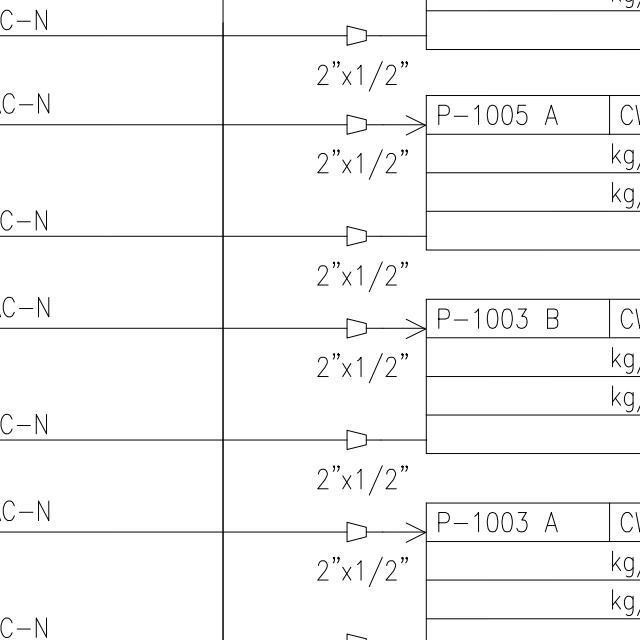SP: (339, 519, 372, 548), (342, 110, 370, 137), (343, 425, 371, 452), (342, 223, 371, 249), (342, 22, 370, 48), (343, 316, 370, 340)
